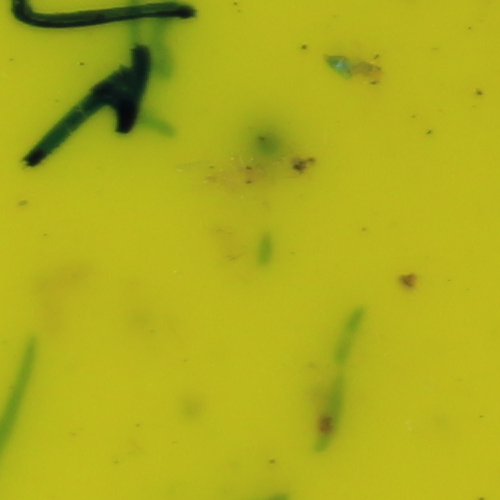psylla: (318, 51, 386, 81)
